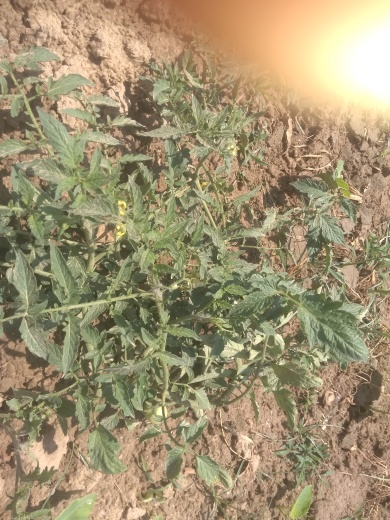tomato diseased leaf: (12, 417, 75, 474), (233, 432, 262, 478)
tomato flower: (107, 219, 142, 251), (109, 197, 133, 217)
tomato plant: (1, 141, 281, 387)
